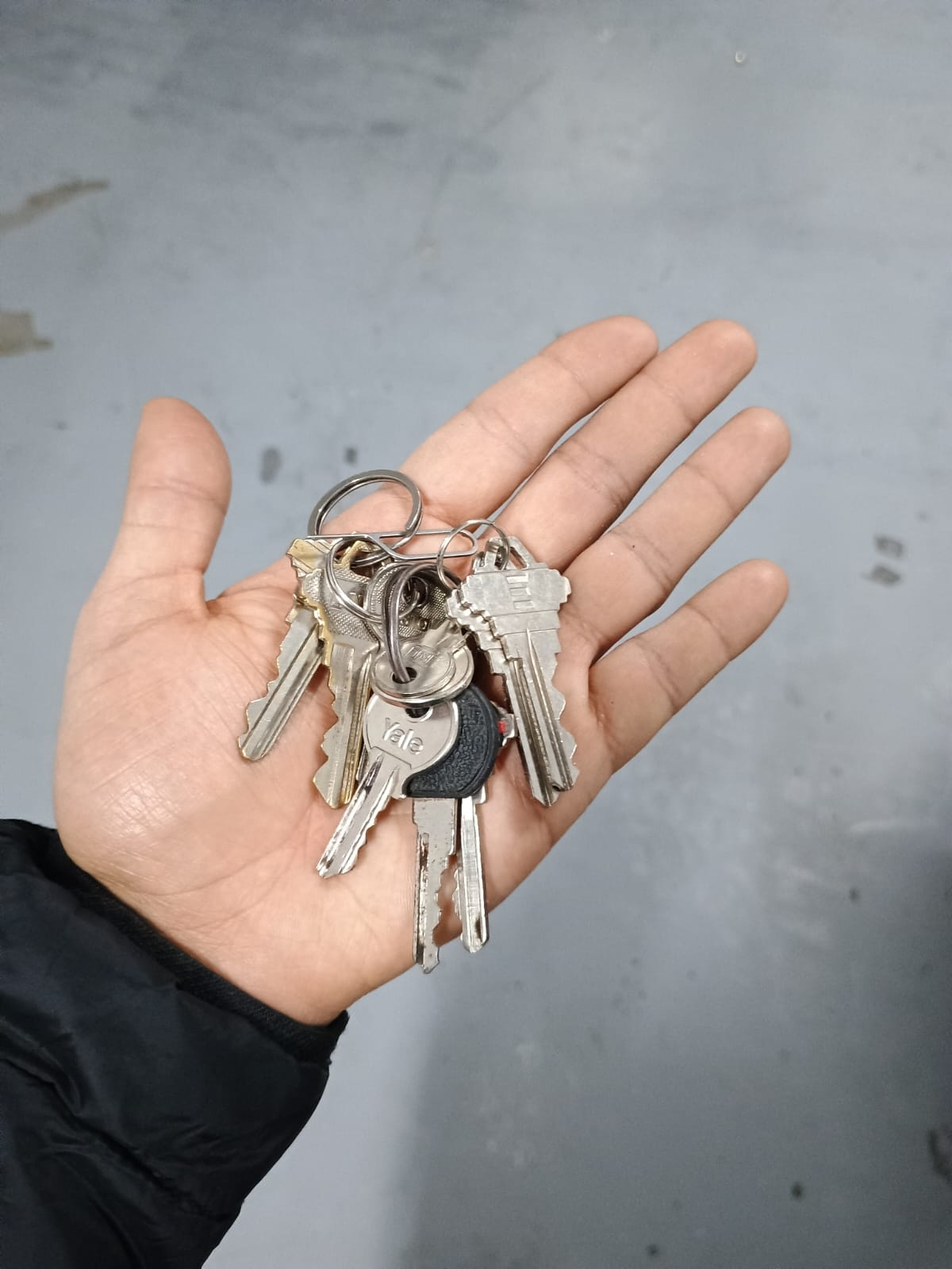Metal: (244, 469, 575, 981)
